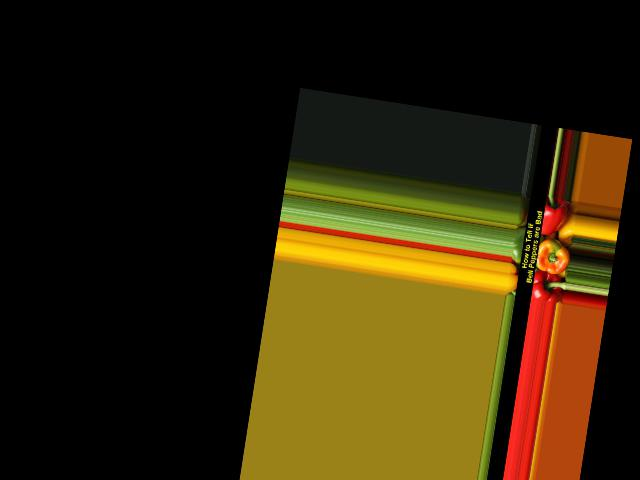bell_pepper: (529, 267, 567, 302)
